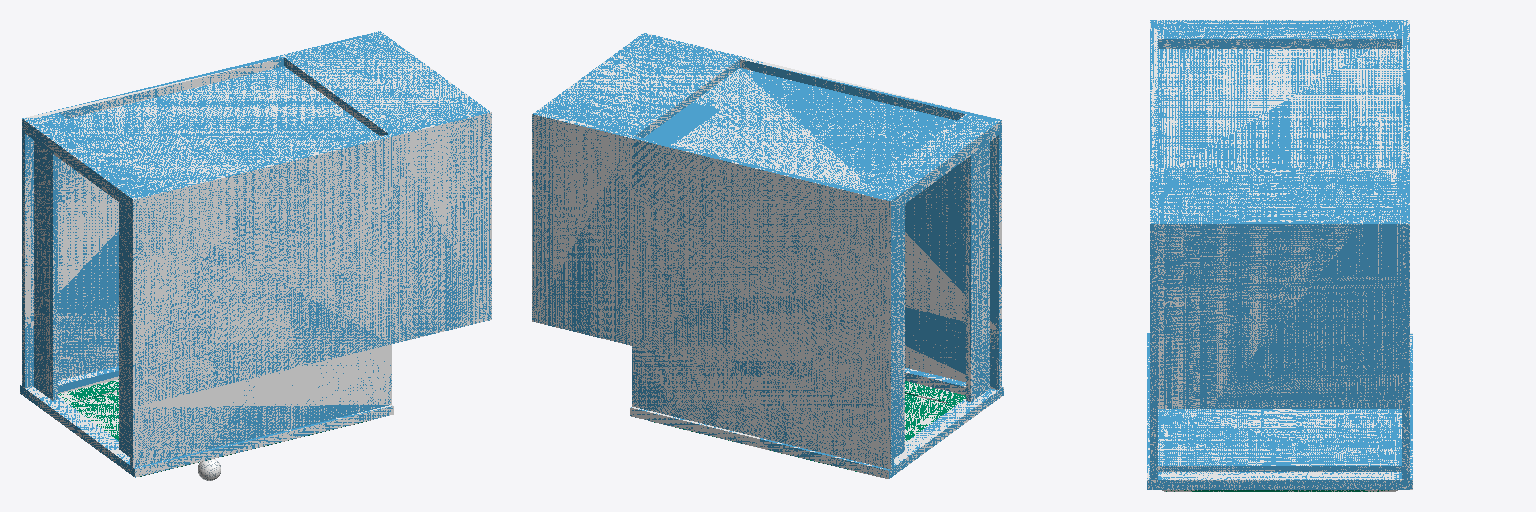
URDF robot description (right-pull-door):
<?xml version="1.0" ?>
<robot name="right-pull-door">
	<link name="base"/>
	<link name="link_0">
		<visual name="out-frame">
			<origin xyz="0 0 0"/>
			<geometry>
				<mesh filename="texture_dae/frame.dae" scale="0.8 0.8 0.8"/>
			</geometry>
		</visual>
		<collision>
			<origin xyz="0 0 0"/>
			<geometry>
				<mesh filename="texture_dae/frame.dae" scale="0.8 0.8 0.8"/>
			</geometry>
		</collision>
	</link>
	<joint name="joint_0" type="fixed">
		<origin rpy="1.570796326794897 0 -1.570796326794897" xyz="0 0 0"/>
		<child link="link_0"/>
		<parent link="base"/>
	</joint>
	<link name="link_1">
		<visual name="surf-board">
			<origin xyz="0.5311670720577241 -0.25727021440650616 0"/>
			<geometry>
				<mesh filename="texture_dae/board.dae" scale="0.8 0.8 0.8"/>
			</geometry>
		</visual>
		<collision>
			<origin xyz="0.5311670720577241 -0.25727021440650616 0"/>
			<geometry>
				<mesh filename="texture_dae/board.dae" scale="0.8 0.8 0.8"/>
			</geometry>
		</collision>
	</link>
	<joint name="joint_1" type="revolute">
		<origin xyz="-0.5311670720577241 0.25727021440650616 0"/>
		<axis xyz="0 -1 0"/>
		<child link="link_1"/>
		<parent link="link_0"/>
		<limit lower="0" upper="1.5079644737231006"/>
	</joint>
	<link name="link_2">
		<visual name="handle">
			<origin xyz="0 0 0"/>
			<geometry>
				<mesh filename="texture_dae/9962028.dae" scale="1.2663541734896335 1.2663541734896335 1.2663541734896335"/>
			</geometry>
		</visual>
		<collision>
			<origin xyz="0 0 0"/>
			<geometry>
				<mesh filename="texture_dae/9962028.dae" scale="1.2663541734896335 1.2663541734896335 1.2663541734896335"/>
			</geometry>
		</collision>
	</link>
	<joint name="joint_2" type="revolute">
		<origin xyz="0.5311670720577241 -0.25727021440650616 0.013379240240411809"/>
		<child link="link_2"/>
		<parent link="link_1"/>
		<axis xyz="0 0 1"/>
		<limit lower="0" upper="1.5079644737231006"/>
	</joint>
</robot>

--- Facts derived from the render (not from the file) ---
Views: 3 orthographic renders of the robot side by side, from view 1: azimuth 30°, elevation 25°; view 2: azimuth 150°, elevation 25°; view 3: azimuth 270°, elevation 25°.
Model right-pull-door with 4 links and 3 joints (2 revolute, 1 fixed), rooted at base, posed every joint at zero.
Visible links, largest first — view 1: link_0, link_1; view 2: link_0, link_1; view 3: link_0.
Boxes of the visible links, x1,y1,x2,y2 form: link_0: (20, 31, 491, 477); link_1: (58, 379, 370, 476); link_0: (532, 33, 1003, 478); link_1: (650, 381, 965, 477); link_0: (1147, 20, 1412, 489).
Bounding box of the posed robot: 1.15 × 0.6362 × 0.9482 m (x, y, z).
3 mesh visuals loaded from 3 distinct referenced files (3 Collada DAE).
